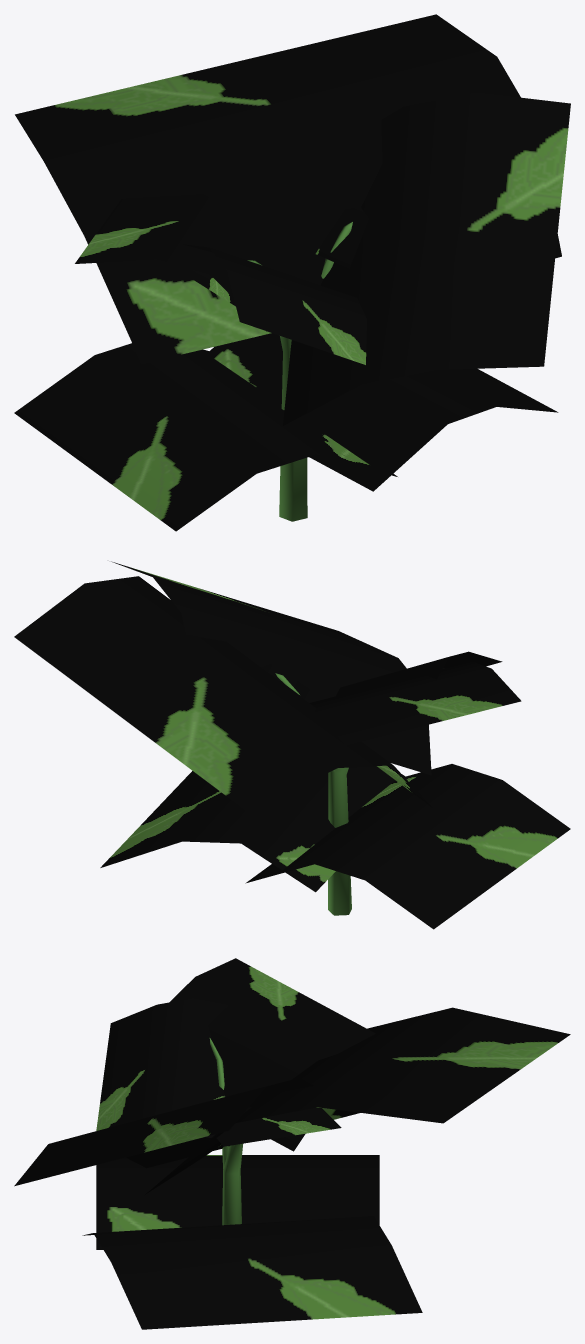
Rendered from TomatoPlant_Stage2.fbx.
The picture shows the model from 3 angles, top to bottom: view 1: azimuth 30°, elevation 25°; view 2: azimuth 150°, elevation 25°; view 3: azimuth 270°, elevation 25°; orthographic projection. The views are drawn at different scales.
Visible parts, largest first — view 1: Cylinder.005; view 2: Cylinder.005; view 3: Cylinder.005.
Boxes of the visible parts, <box> form: Cylinder.005: <box>14,14,570,531</box>; Cylinder.005: <box>14,561,570,929</box>; Cylinder.005: <box>14,958,570,1329</box>.
Size of the model in its own units: 246 by 172 by 275.
Materials: 3 (2 with a texture image).
